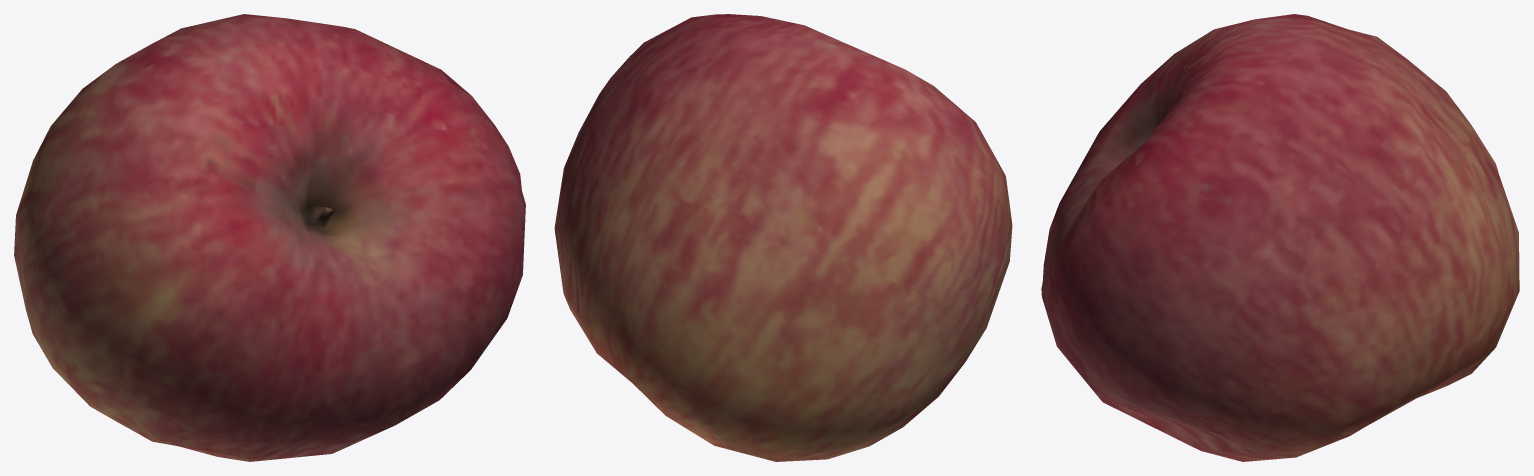
The model's file is Apple.obj.
3 views of the same model, side by side, from view 1: azimuth 30°, elevation 25°; view 2: azimuth 150°, elevation 25°; view 3: azimuth 270°, elevation 25° (orthographic). The views are drawn at different scales.
Visible parts, largest first — view 1: MDCNQX938101_LOD2(Clone)_Quality_6; view 2: MDCNQX938101_LOD2(Clone)_Quality_6; view 3: MDCNQX938101_LOD2(Clone)_Quality_6.
Part boxes in pixels (x1,y1,x2,y2): MDCNQX938101_LOD2(Clone)_Quality_6: (14, 14, 525, 461); MDCNQX938101_LOD2(Clone)_Quality_6: (554, 14, 1012, 461); MDCNQX938101_LOD2(Clone)_Quality_6: (1041, 14, 1519, 461).
Size of the model in its own units: 1.23 by 1.12 by 1.2.
